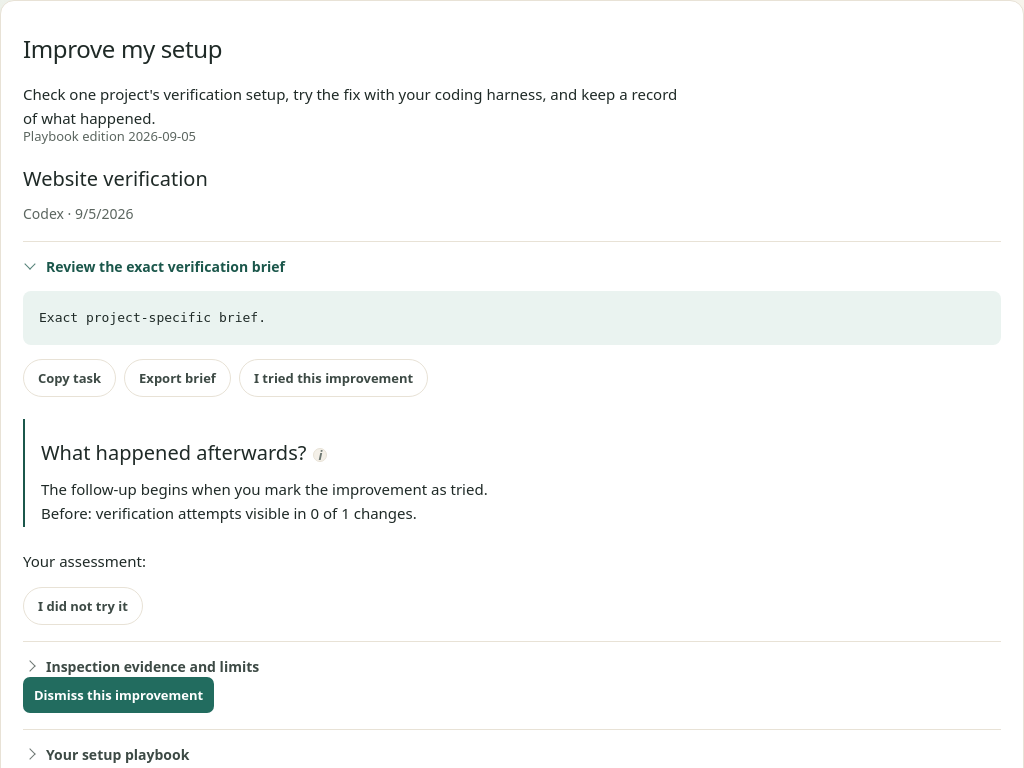
Test: shows the exact brief and copying never marks it tried
Expected: the text "Exact project-specific brief." is shown, 23,291 -> 1001,346
Step 1. Click the button "Copy task" → coordinates (70, 378), box 23,360 -> 116,398
(page scrolled)
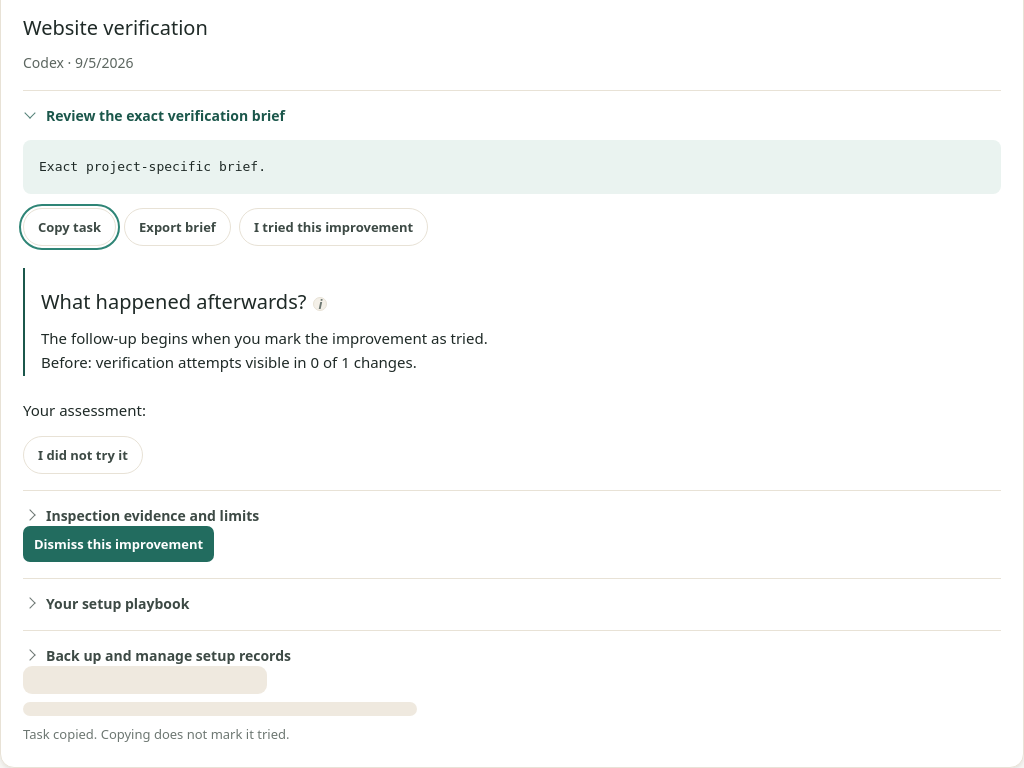
Expected: the text "Task copied. Copying does not mark it tried." is shown, 23,726 -> 290,744
